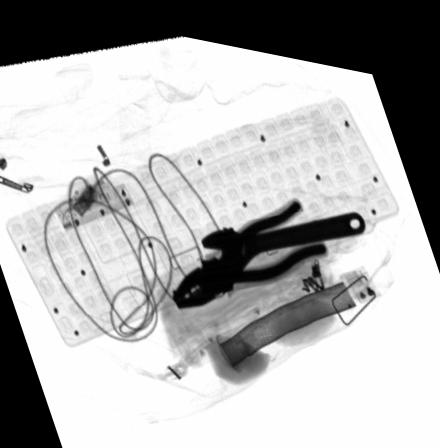Pliers: (171, 184, 330, 305)
Wrench: (199, 194, 366, 272)
